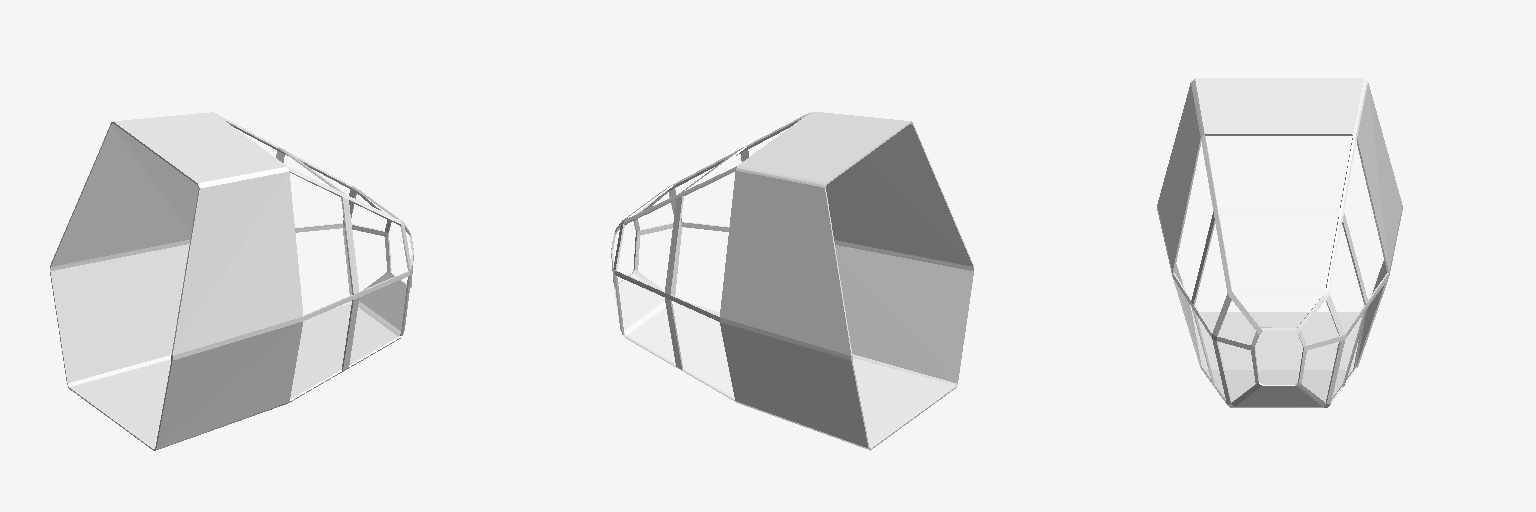
The model's file is Kabina1.obj.
The picture shows the model from 3 angles: view 1: azimuth 30°, elevation 25°; view 2: azimuth 150°, elevation 25°; view 3: azimuth 270°, elevation 25°; orthographic projection.
Visible parts, largest first — view 1: Rim_eight_spokes___body; view 2: Rim_eight_spokes___body; view 3: Rim_eight_spokes___body.
Boxes of the visible parts, x1=… form: Rim_eight_spokes___body: x1=50, y1=112, x2=413, y2=450; Rim_eight_spokes___body: x1=611, y1=111, x2=973, y2=450; Rim_eight_spokes___body: x1=1157, y1=78, x2=1402, y2=407.
Size of the model in its own units: 5404 by 4572 by 3962.